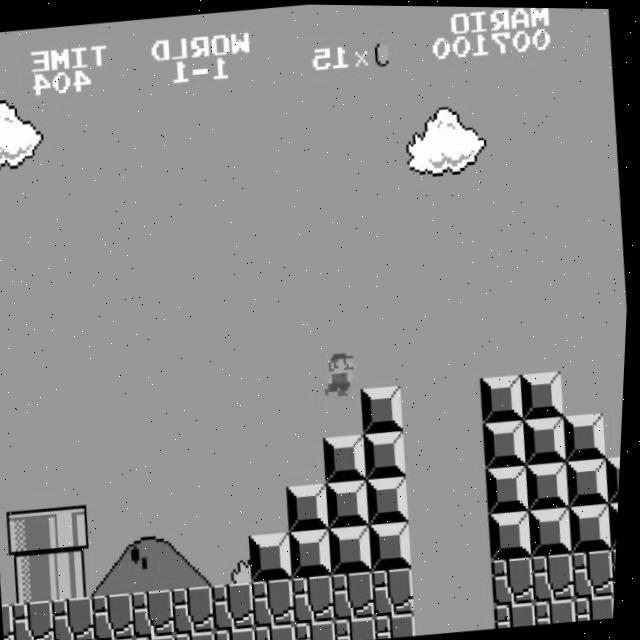11- little_mario: (318, 344, 368, 397)
14- pipe: (11, 553, 59, 603), (52, 549, 99, 600)
15- pipe_head: (48, 504, 96, 554), (8, 508, 56, 558)
17- undestructible_block: (534, 550, 582, 601), (374, 565, 422, 616), (334, 569, 382, 620), (254, 576, 302, 627), (214, 580, 262, 631), (573, 547, 621, 597), (294, 573, 342, 623), (174, 584, 222, 634), (134, 588, 182, 638), (494, 554, 541, 605), (95, 591, 142, 640), (55, 595, 102, 640), (15, 598, 62, 640), (538, 596, 582, 624), (498, 600, 542, 627), (378, 611, 422, 638), (338, 614, 382, 640), (578, 592, 620, 619), (299, 618, 343, 640), (259, 621, 302, 640), (6, 602, 23, 640), (219, 625, 262, 640), (179, 629, 222, 640), (139, 633, 182, 640)
9- hard_block: (521, 368, 569, 419), (527, 459, 575, 510), (530, 504, 578, 555), (367, 474, 415, 525), (291, 527, 339, 578), (567, 456, 615, 506), (481, 372, 529, 422), (487, 463, 535, 513), (361, 383, 409, 433), (371, 520, 419, 570), (251, 531, 299, 581), (491, 508, 538, 559), (328, 478, 375, 529), (331, 523, 378, 574), (571, 501, 618, 551), (325, 432, 372, 482), (288, 482, 335, 532), (485, 418, 532, 467), (365, 429, 412, 478), (565, 410, 611, 460), (525, 414, 571, 463), (608, 452, 624, 501), (610, 498, 623, 547)
